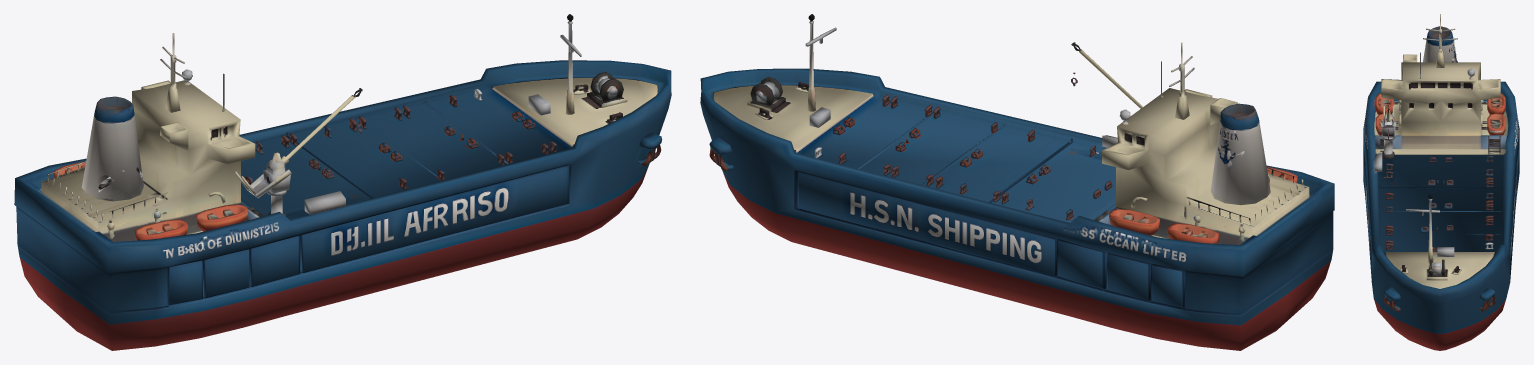
Rendered from ship.fbx.
3 renders of one model, left to right at view 1: azimuth 30°, elevation 25°; view 2: azimuth 150°, elevation 25°; view 3: azimuth 270°, elevation 25°, orthographic. The views are drawn at different scales.
Parts seen in each view (by area): view 1: ship; view 2: ship; view 3: ship.
Part boxes in pixels (box(x1,y1,x2,y2)): ship: box(14, 14, 671, 350); ship: box(700, 14, 1334, 350); ship: box(1363, 14, 1519, 350).
Size of the model in its own units: 100 by 43.64 by 32.29.
1 material, 1 textured.
